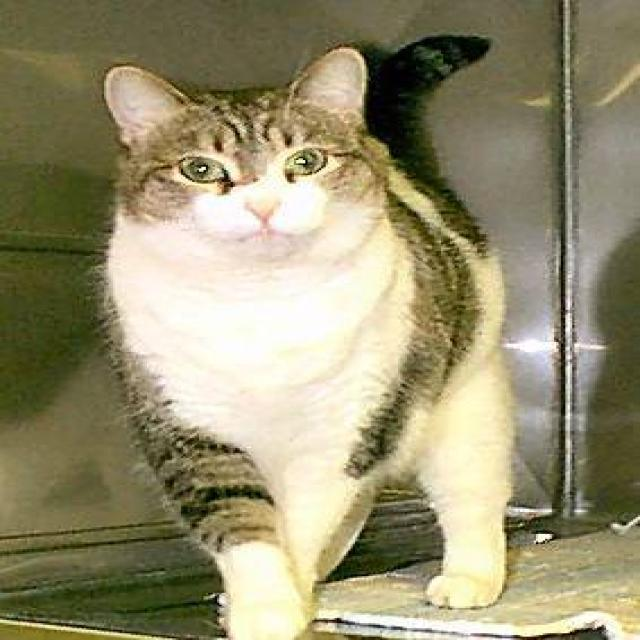cat: (91, 32, 520, 638)
